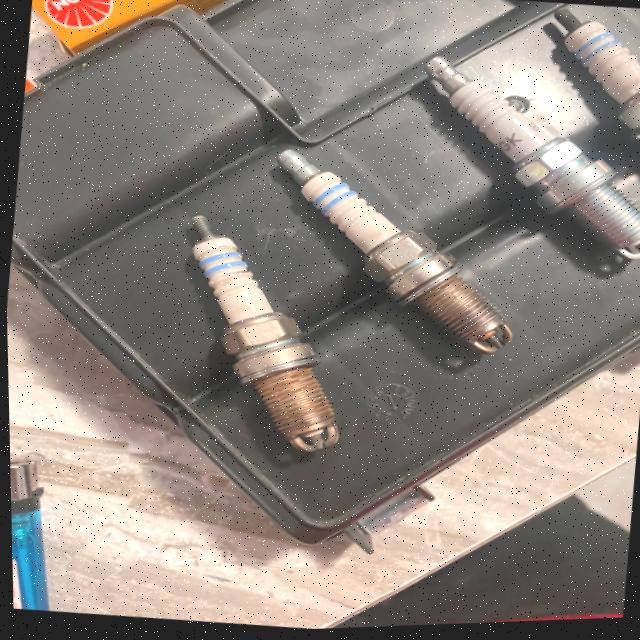spark-plug: (266, 143, 518, 359), (413, 62, 640, 274), (194, 212, 343, 462)
